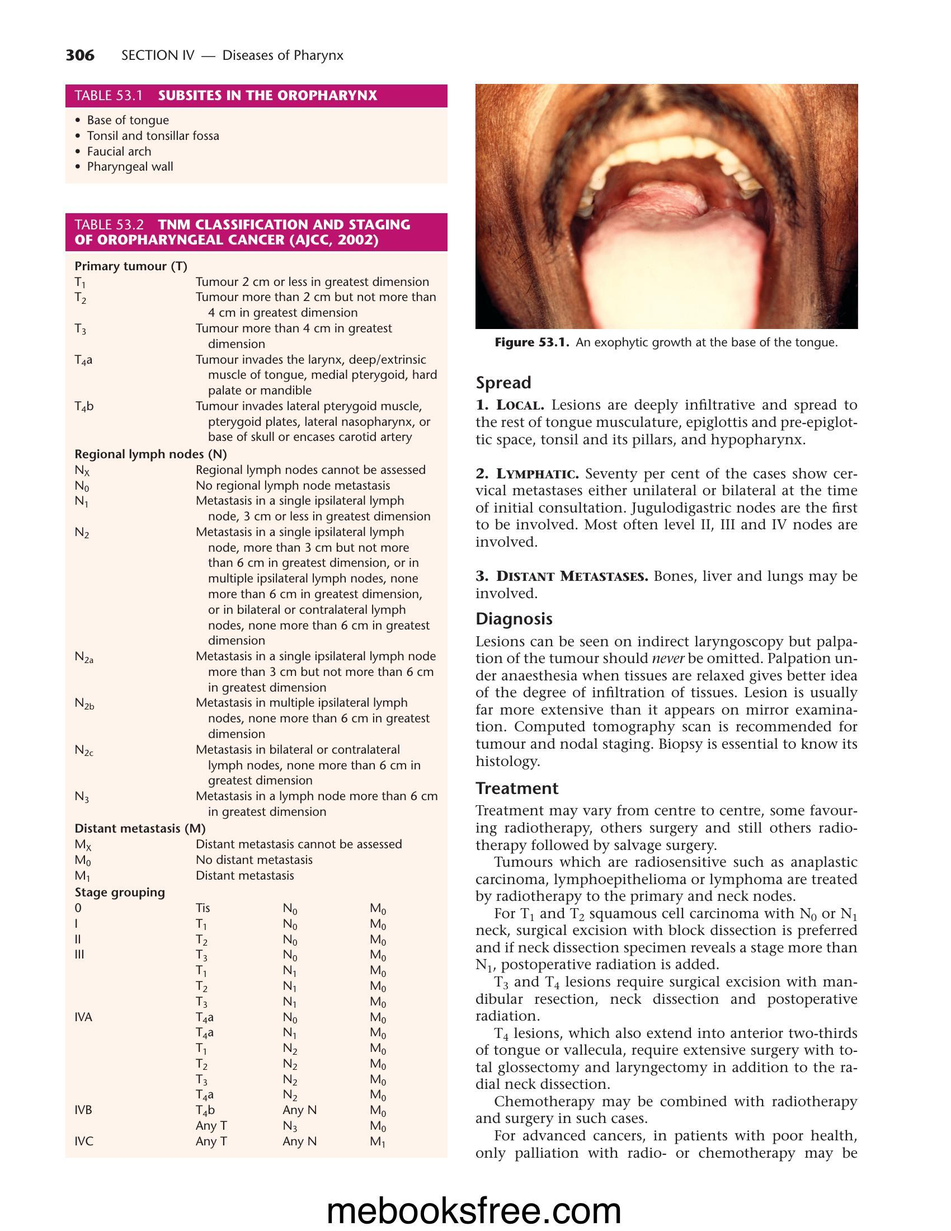caption: (73, 218, 411, 249), (495, 336, 838, 351), (73, 89, 379, 101)
header: (121, 47, 344, 65)
image: (474, 83, 859, 330)
list: (476, 397, 858, 599)
sub-section-heading: (475, 611, 554, 631), (474, 780, 560, 796), (475, 375, 531, 393)
table: (65, 251, 446, 1157), (65, 106, 447, 183)
text: (474, 803, 859, 1161), (475, 634, 858, 771)
